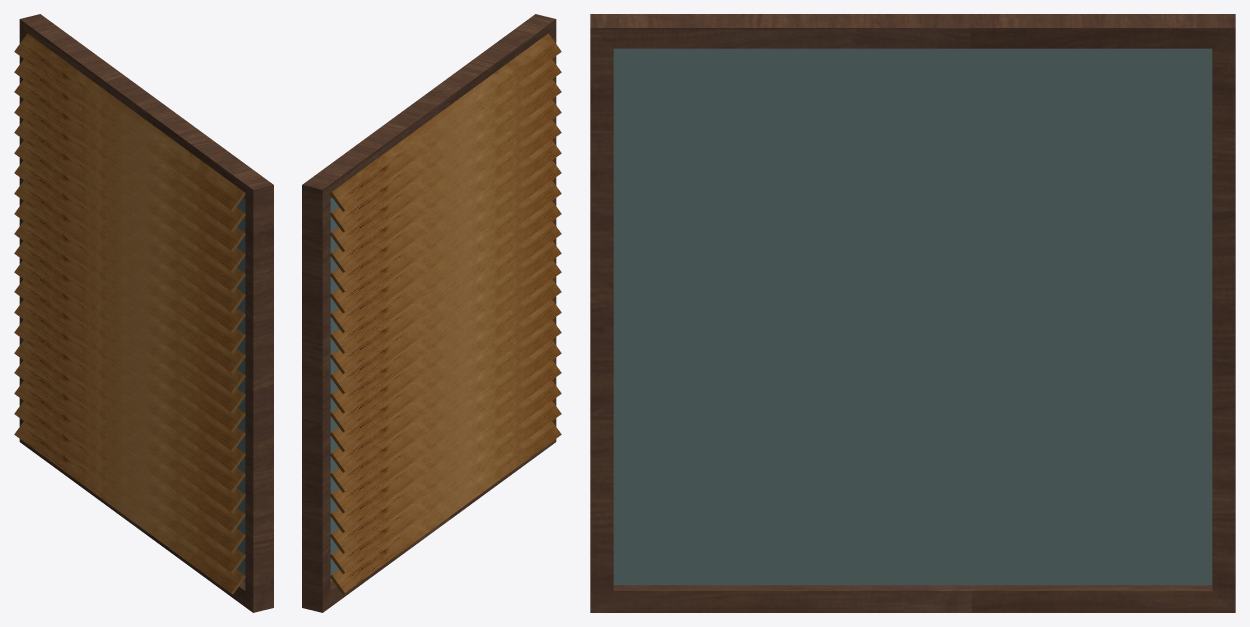
The model's file is window_surfaced.fbx.
3 renders of one model, left to right at view 1: azimuth 30°, elevation 25°; view 2: azimuth 150°, elevation 25°; view 3: azimuth 270°, elevation 25°, orthographic. The views are drawn at different scales.
Parts seen in each view (by area): view 1: window, pCube12, pCube14, pCube9, pCube20, pCube19, pCube13, pCube10, pCube6, pCube4, pCube16, pCube11 (+9 smaller); view 2: window, pCube12, pCube14, pCube9, pCube20, pCube19, pCube13, pCube10, pCube6, pCube4, pCube16, pCube11 (+9 smaller); view 3: window.
Part boxes in pixels (x1=…): window: x1=19, y1=14, x2=273, y2=612; pCube12: x1=14, y1=33, x2=245, y2=211; pCube14: x1=14, y1=99, x2=245, y2=272; pCube9: x1=14, y1=340, x2=245, y2=513; pCube20: x1=14, y1=180, x2=245, y2=353; pCube19: x1=14, y1=140, x2=245, y2=313; pCube13: x1=14, y1=59, x2=245, y2=232; pCube10: x1=14, y1=421, x2=245, y2=594; pCube6: x1=14, y1=380, x2=245, y2=553; pCube4: x1=14, y1=299, x2=245, y2=472; pCube16: x1=14, y1=201, x2=245, y2=373; pCube11: x1=14, y1=401, x2=245, y2=573; window: x1=302, y1=14, x2=556, y2=612; pCube12: x1=330, y1=33, x2=561, y2=211; pCube14: x1=330, y1=99, x2=561, y2=272; pCube9: x1=330, y1=340, x2=561, y2=513; pCube20: x1=330, y1=180, x2=561, y2=353; pCube19: x1=330, y1=140, x2=561, y2=313; pCube13: x1=330, y1=59, x2=561, y2=232; pCube10: x1=330, y1=421, x2=561, y2=594; pCube6: x1=330, y1=380, x2=561, y2=553; pCube4: x1=330, y1=299, x2=561, y2=472; pCube16: x1=330, y1=201, x2=561, y2=373; pCube11: x1=330, y1=401, x2=561, y2=573; window: x1=590, y1=14, x2=1235, y2=612.
Bounding box in the file's own units: 1.76 × 20.48 × 20.48.
Materials: 3 (2 with a texture image).
